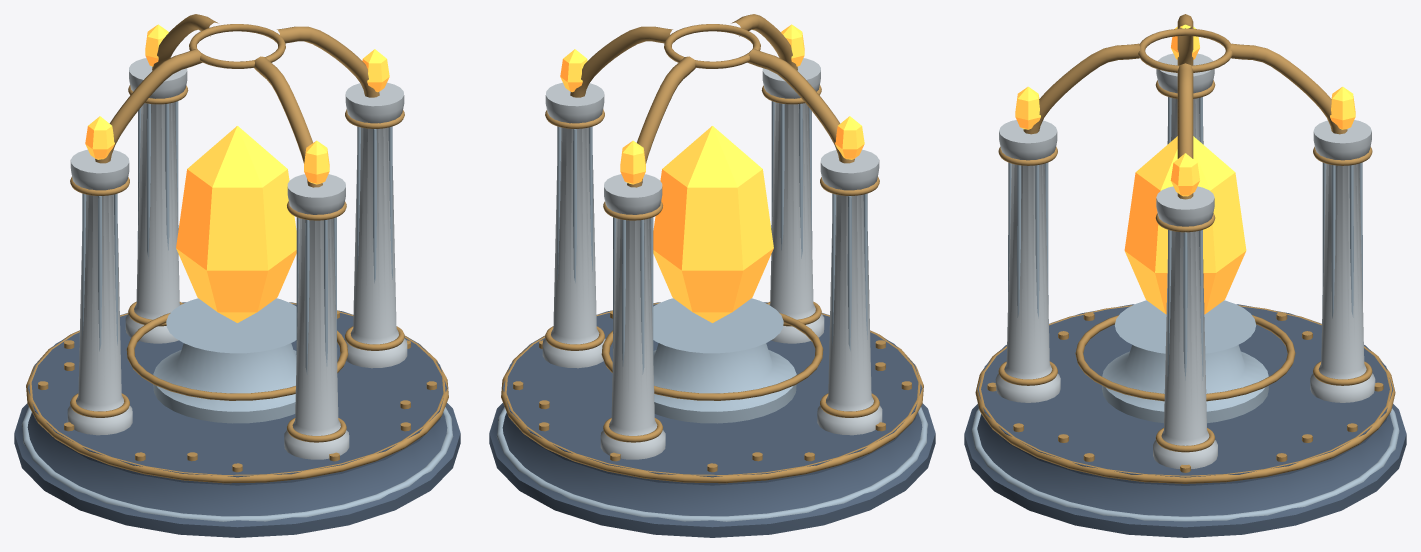
Rendered from moonsteel-convergence-solar-nexus-d3306687__18164.glb.
3 views of the same model, side by side, from view 1: azimuth 30°, elevation 25°; view 2: azimuth 150°, elevation 25°; view 3: azimuth 270°, elevation 25° (orthographic).
Parts seen in each view (by area): view 1: solar-nexus; view 2: solar-nexus; view 3: solar-nexus.
Part boxes in pixels (x1,y1,x2,y2): solar-nexus: [14, 14, 460, 537]; solar-nexus: [489, 14, 935, 537]; solar-nexus: [964, 14, 1406, 537].
Bounding box in the file's own units: 4.5 × 4.5 × 4.5.
